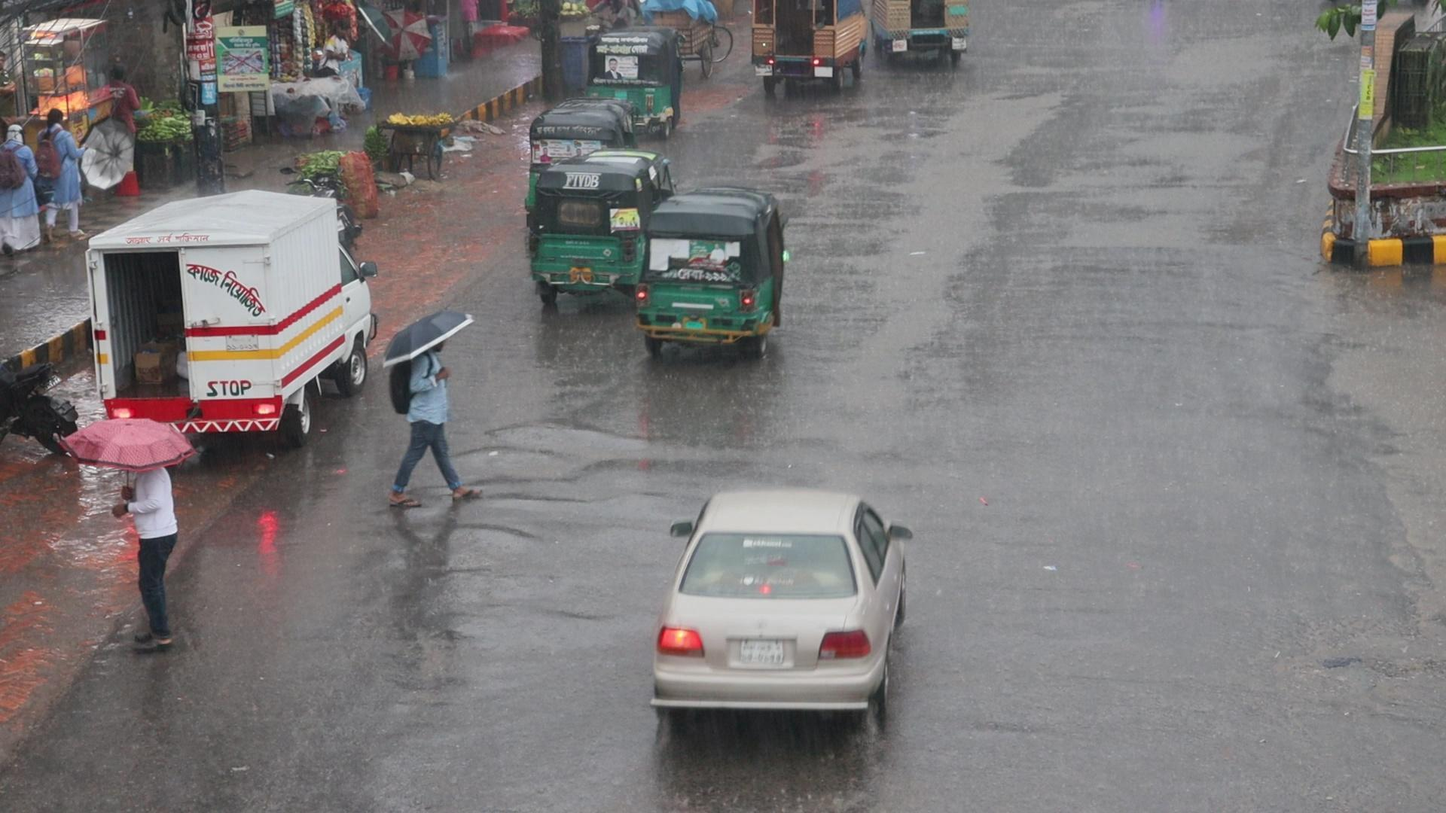Car: (642, 474, 923, 754)
